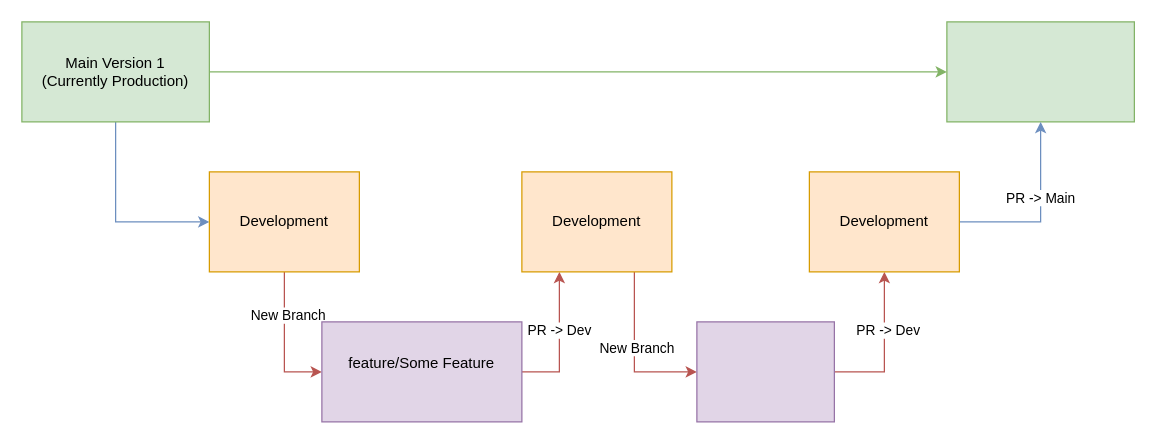
The diagram is 1156 pixels wide and 444 high, and some of its shapes have lost their labels. Here are the shapes that lost their labels. From the top down, the centre of each, then its label:
At point 1040,71: "Main Version 2 (Currently Production)".
At point 765,371: "bugfix/some bugfix".
